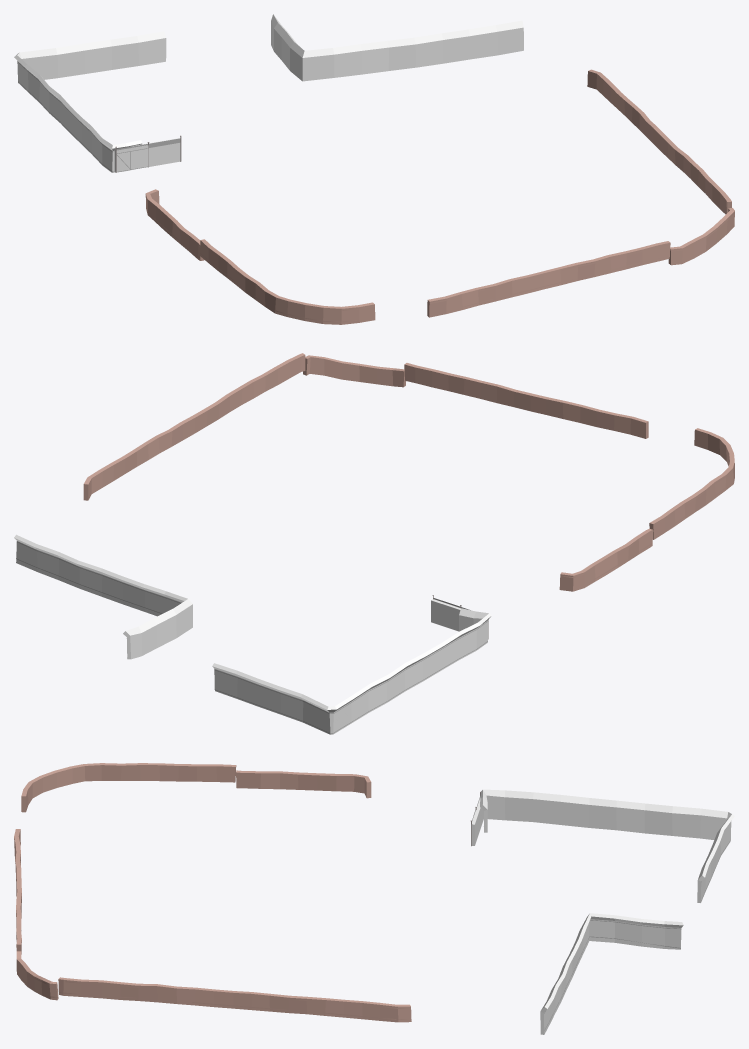
Rendered from gasstation_north_fencing.dae.
3 views of the same model, one above another, from view 1: azimuth 30°, elevation 25°; view 2: azimuth 150°, elevation 25°; view 3: azimuth 270°, elevation 25° (orthographic).
Visible parts, largest first — view 1: Colmesh-1, gasstation_north_fencing_a1000; view 2: Colmesh-1, gasstation_north_fencing_a1000; view 3: Colmesh-1, gasstation_north_fencing_a1000.
Part boxes in pixels (bbox=[...]): Colmesh-1: bbox=[14, 14, 734, 324]; gasstation_north_fencing_a1000: bbox=[18, 62, 734, 322]; Colmesh-1: bbox=[14, 353, 734, 734]; gasstation_north_fencing_a1000: bbox=[16, 475, 734, 733]; Colmesh-1: bbox=[14, 763, 734, 1034]; gasstation_north_fencing_a1000: bbox=[15, 791, 730, 1030].
Size of the model in its own units: 58.66 by 76.63 by 4.99.
